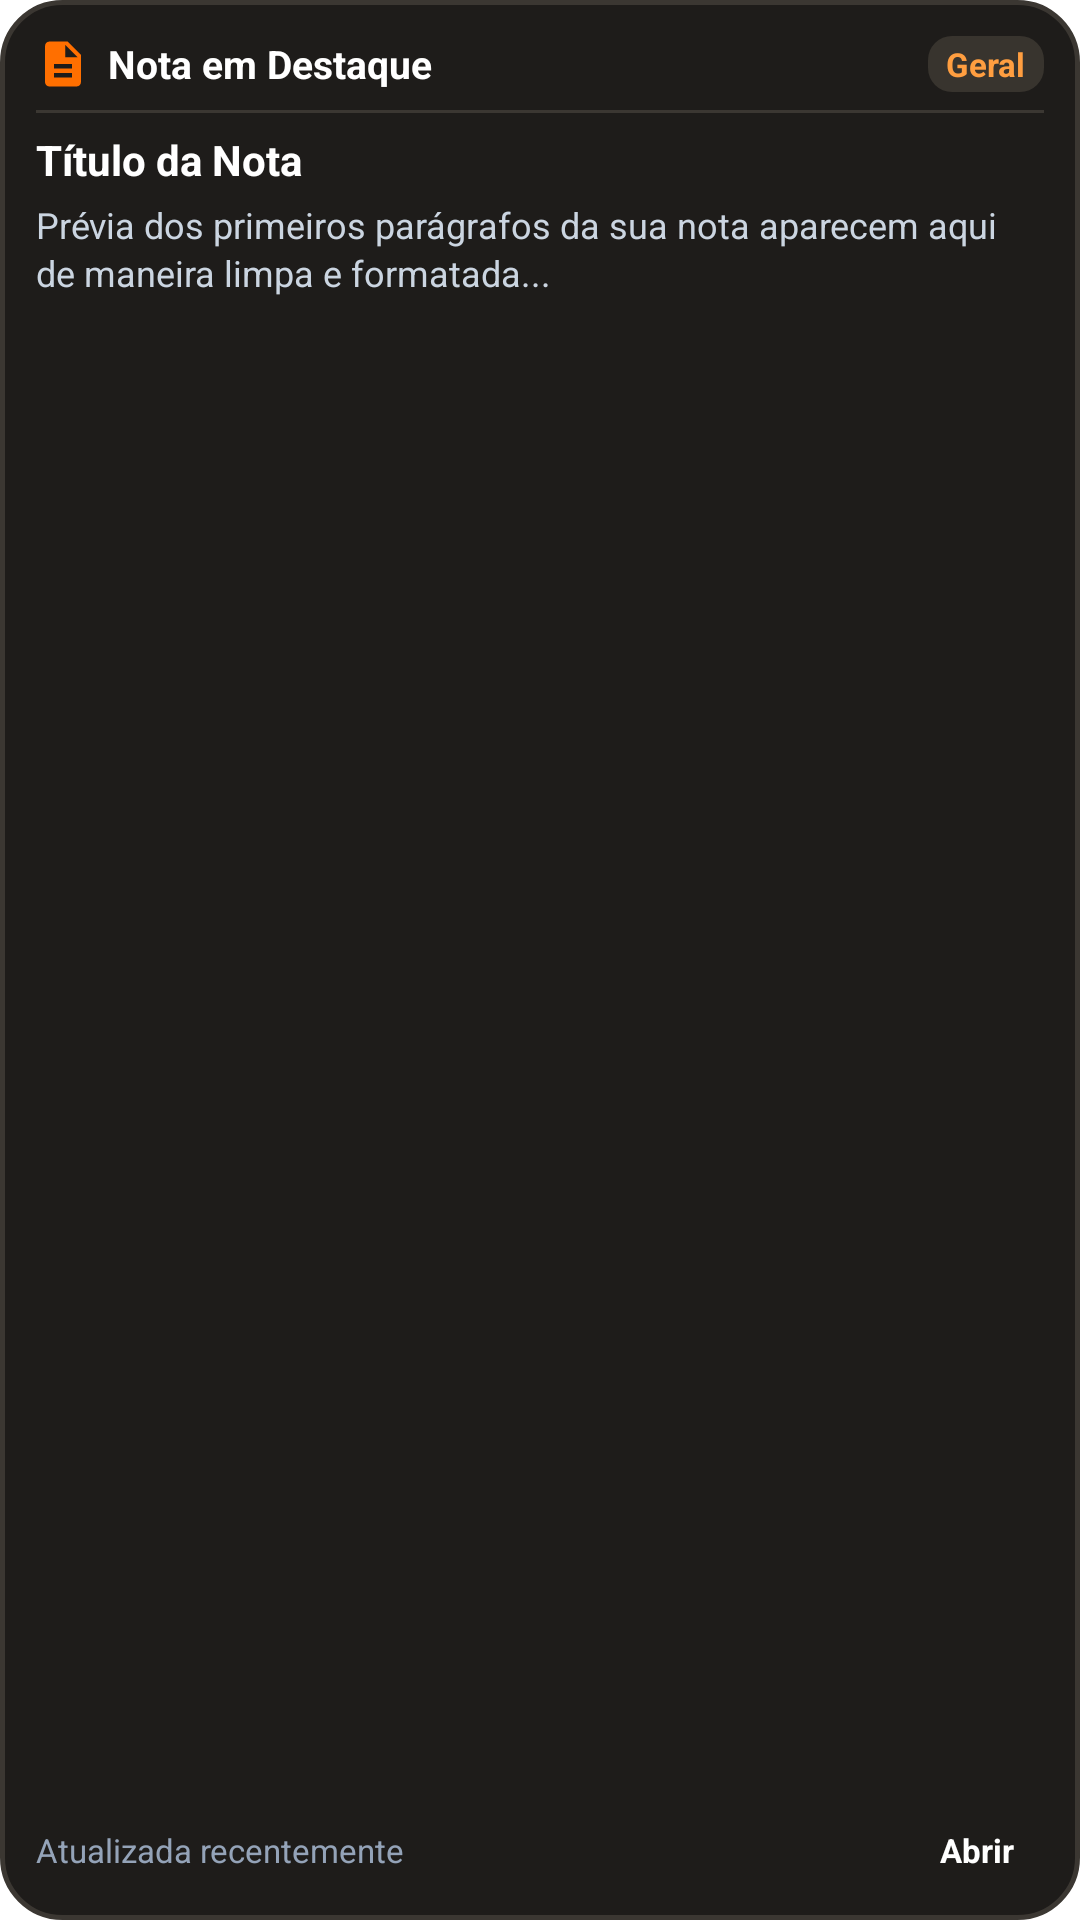

Icon bounding boxes for this 1080x1920 phone screenshot, format (x1, y1, x2, y2):
widget note: (45, 41, 81, 87)
